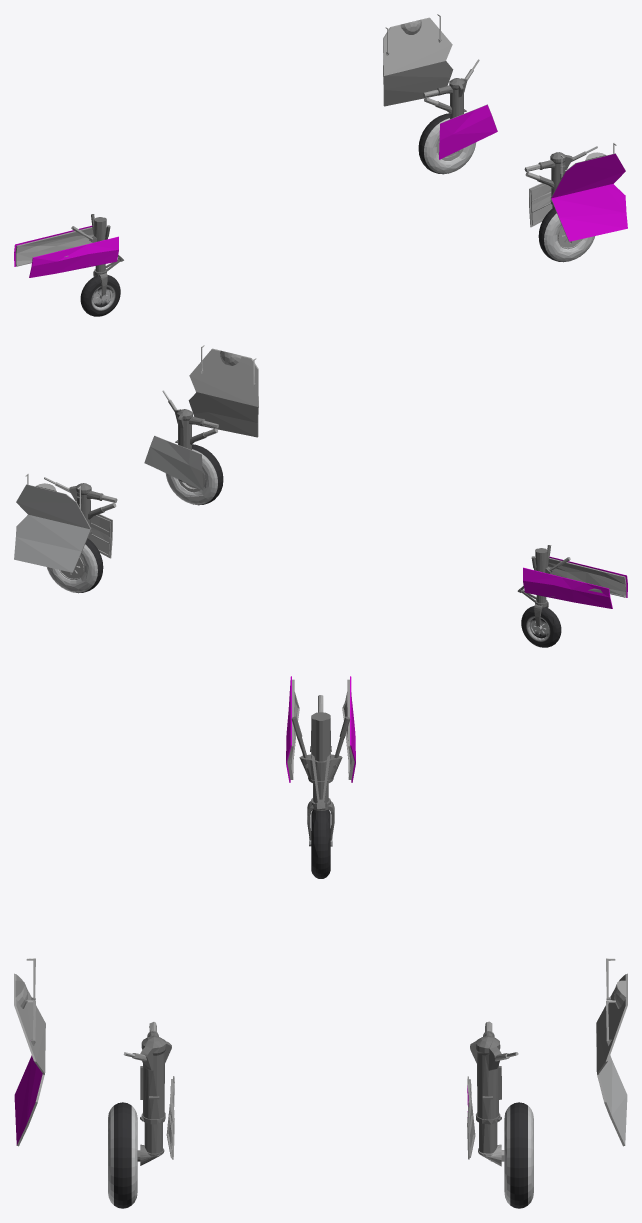
Rendered from f22.gear.glb.
3 renders of one model, top to bottom at view 1: azimuth 30°, elevation 25°; view 2: azimuth 150°, elevation 25°; view 3: azimuth 270°, elevation 25°, orthographic. The views are drawn at different scales.
Parts seen in each view (by area): view 1: gear; view 2: gear; view 3: gear.
Part boxes in pixels (x1,y1,x2,y2): gear: (14, 14, 627, 316); gear: (14, 345, 627, 647); gear: (14, 676, 627, 1208).
Size of the model in its own units: 7.77 by 1.89 by 4.81.
